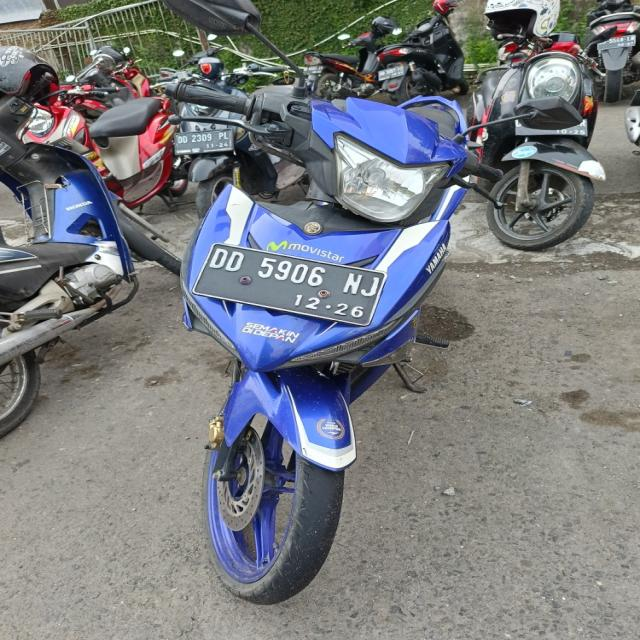plates: (201, 240, 386, 330)
